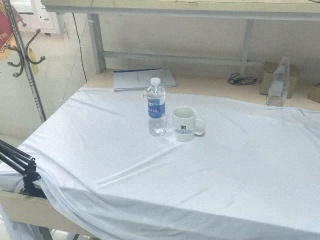bottle: (266, 52, 290, 107), (147, 77, 167, 137)
cup: (172, 106, 206, 142)
